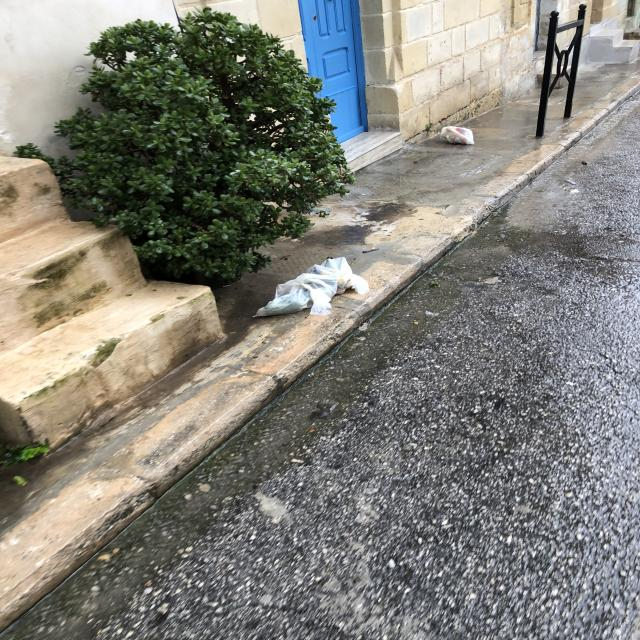Organic Waste -White Bag-: (254, 272, 342, 320), (291, 257, 373, 299), (439, 126, 479, 147)
